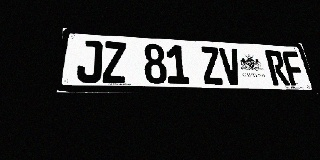1: (165, 45, 190, 84)
8: (143, 43, 167, 84)
F: (281, 51, 307, 86)
J: (76, 40, 102, 83)
R: (264, 50, 290, 86)
V: (218, 47, 244, 85)
Z: (102, 41, 126, 83), (199, 46, 224, 85)
